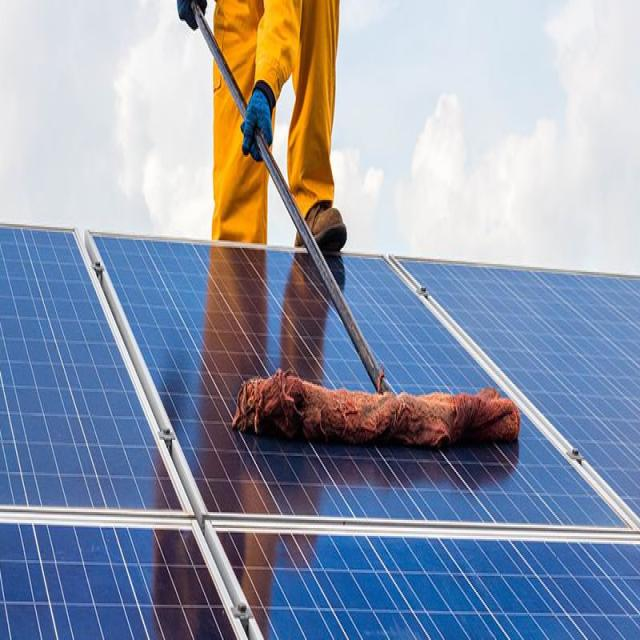clean-solar-panel: (1, 225, 640, 638)
